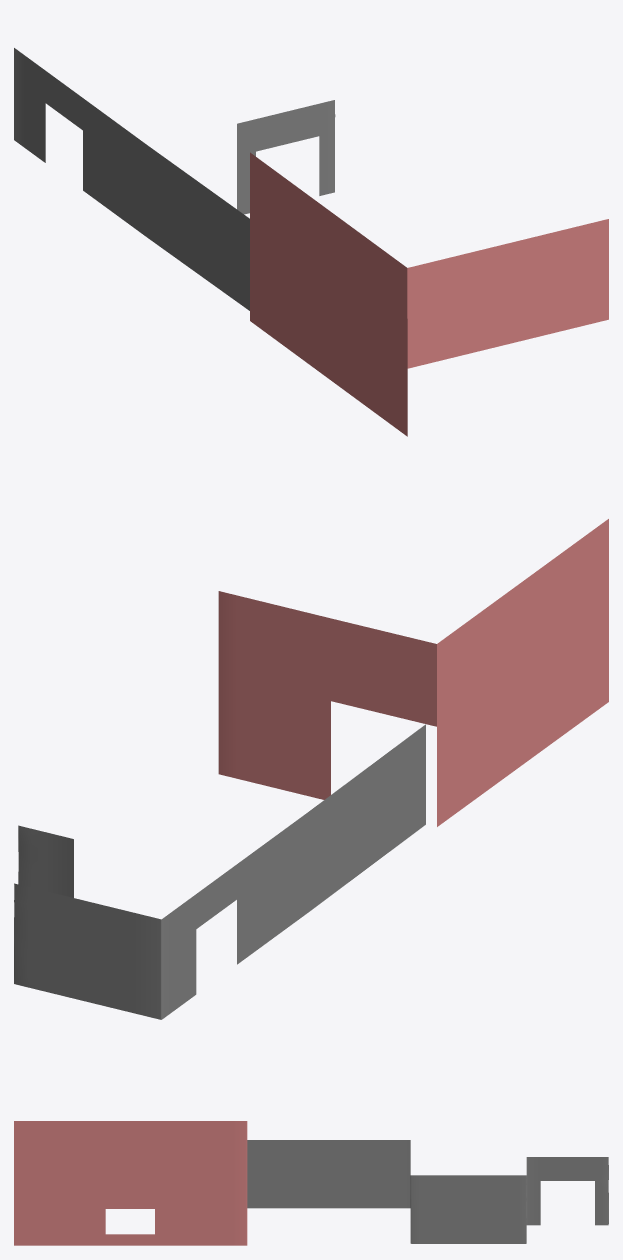
Rendered from S_Envi_Fyz_Building_62g.gltf.
The picture shows the model from 3 angles, top to bottom: view 1: azimuth 30°, elevation 25°; view 2: azimuth 150°, elevation 25°; view 3: azimuth 270°, elevation 25°; orthographic projection. The views are drawn at different scales.
Parts seen in each view (by area): view 1: S_Envi_Fyz_Building_62g; view 2: S_Envi_Fyz_Building_62g; view 3: S_Envi_Fyz_Building_62g.
Boxes of the visible parts, box(x1,y1,x2,y2) form: S_Envi_Fyz_Building_62g: box(14, 48, 608, 436); S_Envi_Fyz_Building_62g: box(14, 519, 608, 1019); S_Envi_Fyz_Building_62g: box(14, 1121, 608, 1245).
Size of the model in its own units: 12.58 by 10.07 by 43.55.
